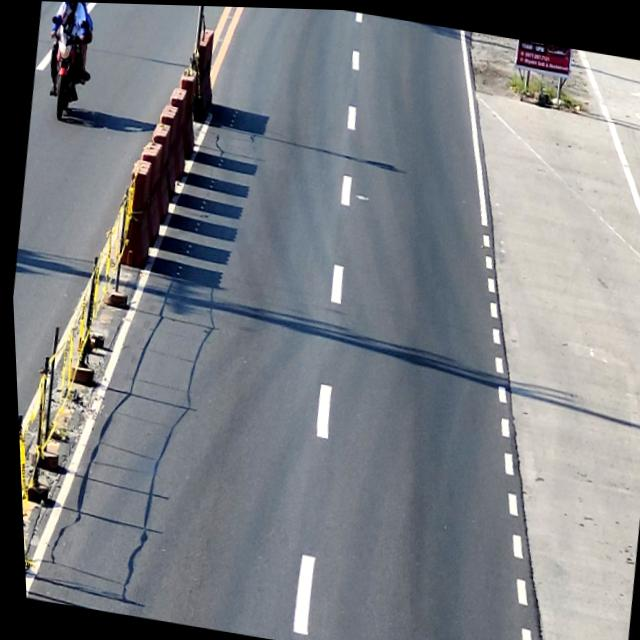Motorcycle: (37, 12, 94, 126)
